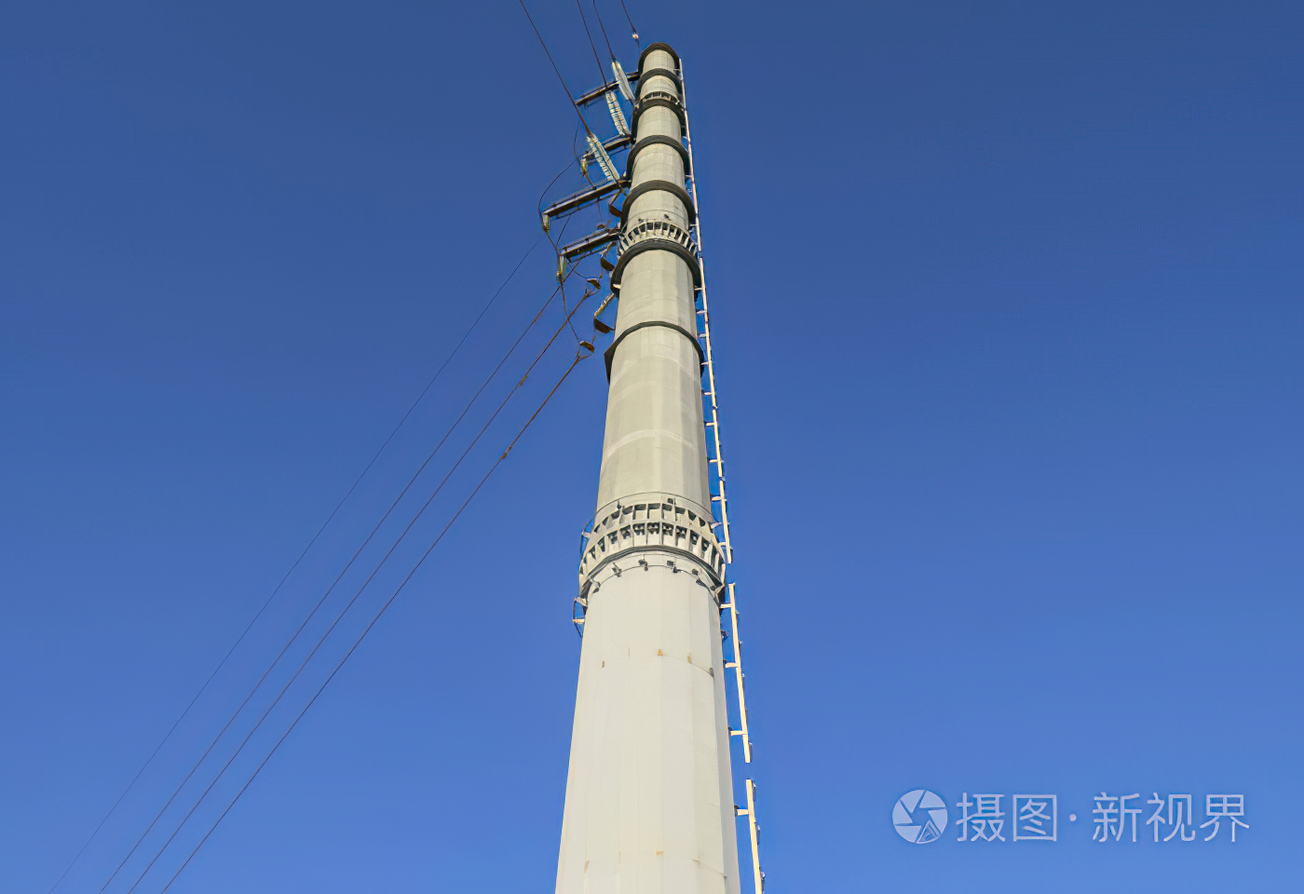insulator: (586, 133, 622, 187), (604, 91, 628, 140), (609, 61, 635, 101)
